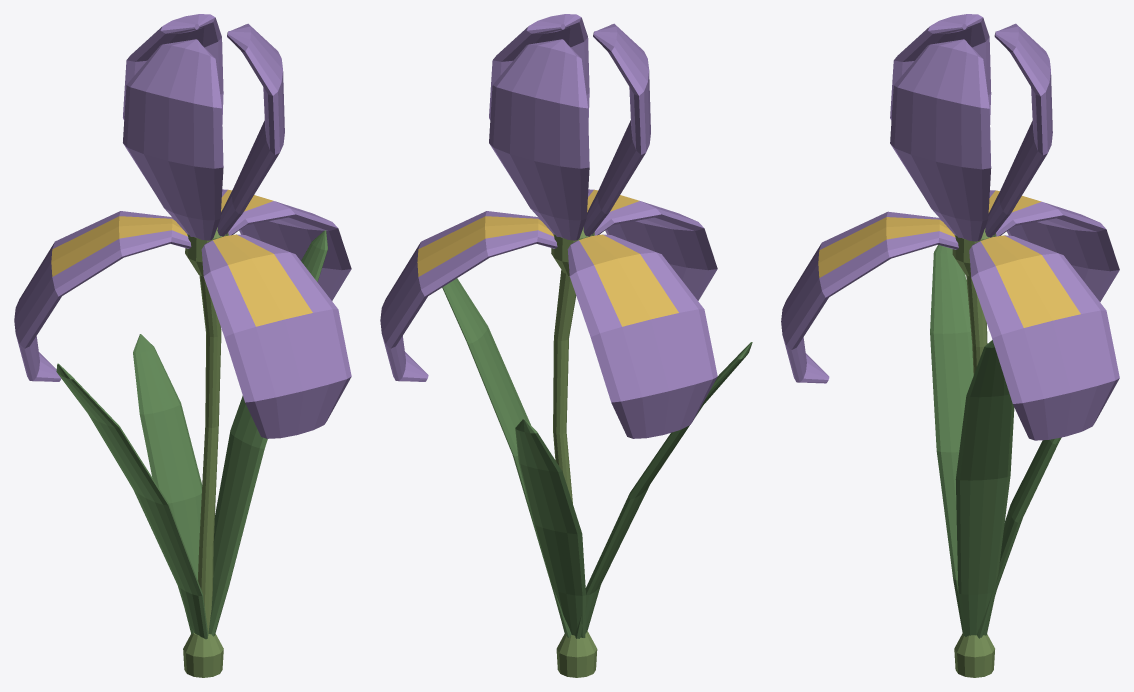
The picture shows the model from 3 angles, left to right: view 1: azimuth 30°, elevation 25°; view 2: azimuth 150°, elevation 25°; view 3: azimuth 270°, elevation 25°; orthographic projection.
Parts seen in each view (by area): view 1: WholeReflexedDroopingIrisFall0, WholeInwardArchingUprightIrisPetal2, WholeReflexedDroopingIrisFall2, WholeFlattenedSwordFanLeaf2, WholeFlattenedSwordFanLeaf1, WholeFlattenedSwordFanLeaf0, WholeInwardArchingUprightIrisPetal0, WholeReflexedDroopingIrisFall1, WholeGentlyBentIrisFlowerStalk, WholeInwardArchingUprightIrisPetal1, WholeSmallIrisBasalCrown, WholeSmallIrisFlowerReceptacle; view 2: WholeReflexedDroopingIrisFall2, WholeInwardArchingUprightIrisPetal1, WholeReflexedDroopingIrisFall1, WholeFlattenedSwordFanLeaf2, WholeReflexedDroopingIrisFall0, WholeInwardArchingUprightIrisPetal2, WholeFlattenedSwordFanLeaf1, WholeFlattenedSwordFanLeaf0, WholeGentlyBentIrisFlowerStalk, WholeInwardArchingUprightIrisPetal0, WholeSmallIrisBasalCrown, WholeSmallIrisFlowerReceptacle; view 3: WholeReflexedDroopingIrisFall1, WholeInwardArchingUprightIrisPetal0, WholeFlattenedSwordFanLeaf1, WholeReflexedDroopingIrisFall0, WholeFlattenedSwordFanLeaf0, WholeReflexedDroopingIrisFall2, WholeInwardArchingUprightIrisPetal1, WholeInwardArchingUprightIrisPetal2, WholeFlattenedSwordFanLeaf2, WholeSmallIrisBasalCrown, WholeGentlyBentIrisFlowerStalk, WholeSmallIrisFlowerReceptacle.
Boxes of the visible parts, bbox=[...] form: WholeReflexedDroopingIrisFall0: bbox=[201, 234, 351, 438]; WholeInwardArchingUprightIrisPetal2: bbox=[123, 39, 223, 240]; WholeReflexedDroopingIrisFall2: bbox=[14, 211, 191, 381]; WholeFlattenedSwordFanLeaf2: bbox=[133, 334, 202, 634]; WholeFlattenedSwordFanLeaf1: bbox=[208, 230, 327, 636]; WholeFlattenedSwordFanLeaf0: bbox=[56, 363, 208, 639]; WholeInwardArchingUprightIrisPetal0: bbox=[217, 23, 284, 236]; WholeReflexedDroopingIrisFall1: bbox=[221, 189, 351, 300]; WholeGentlyBentIrisFlowerStalk: bbox=[198, 275, 221, 633]; WholeInwardArchingUprightIrisPetal1: bbox=[123, 14, 223, 124]; WholeSmallIrisBasalCrown: bbox=[183, 633, 223, 677]; WholeSmallIrisFlowerReceptacle: bbox=[185, 227, 228, 276]; WholeReflexedDroopingIrisFall2: bbox=[567, 234, 717, 438]; WholeInwardArchingUprightIrisPetal1: bbox=[489, 39, 589, 240]; WholeReflexedDroopingIrisFall1: bbox=[380, 211, 557, 381]; WholeFlattenedSwordFanLeaf2: bbox=[515, 419, 585, 637]; WholeReflexedDroopingIrisFall0: bbox=[587, 189, 717, 300]; WholeInwardArchingUprightIrisPetal2: bbox=[583, 23, 650, 236]; WholeFlattenedSwordFanLeaf1: bbox=[442, 278, 571, 637]; WholeFlattenedSwordFanLeaf0: bbox=[575, 342, 752, 638]; WholeGentlyBentIrisFlowerStalk: bbox=[553, 270, 576, 503]; WholeInwardArchingUprightIrisPetal0: bbox=[489, 14, 589, 122]; WholeSmallIrisBasalCrown: bbox=[556, 631, 597, 677]; WholeSmallIrisFlowerReceptacle: bbox=[551, 227, 594, 275]; WholeReflexedDroopingIrisFall1: bbox=[969, 235, 1119, 440]; WholeInwardArchingUprightIrisPetal0: bbox=[890, 39, 991, 241]; WholeFlattenedSwordFanLeaf1: bbox=[955, 340, 1014, 636]; WholeReflexedDroopingIrisFall0: bbox=[781, 211, 958, 383]; WholeFlattenedSwordFanLeaf0: bbox=[930, 245, 973, 632]; WholeReflexedDroopingIrisFall2: bbox=[988, 190, 1119, 301]; WholeInwardArchingUprightIrisPetal1: bbox=[985, 23, 1052, 237]; WholeInwardArchingUprightIrisPetal2: bbox=[890, 14, 991, 124]; WholeFlattenedSwordFanLeaf2: bbox=[977, 437, 1061, 638]; WholeSmallIrisBasalCrown: bbox=[954, 632, 994, 677]; WholeGentlyBentIrisFlowerStalk: bbox=[966, 275, 987, 374]; WholeSmallIrisFlowerReceptacle: bbox=[952, 228, 996, 276].
Bounding box in the file's own units: 0.8932 × 1.66 × 0.7949.
